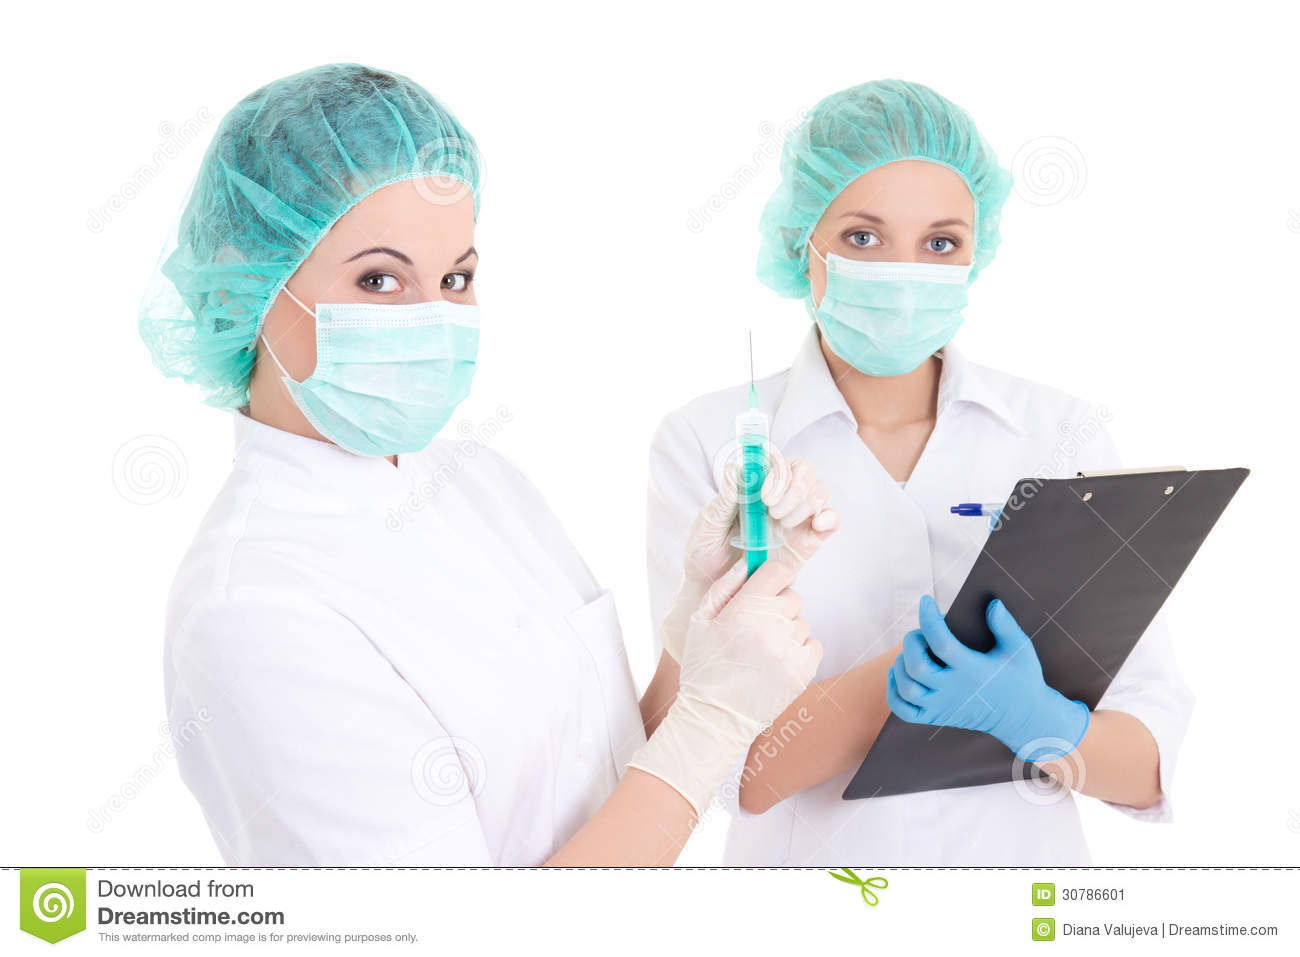mask: (310, 307, 492, 470), (819, 252, 969, 379)
